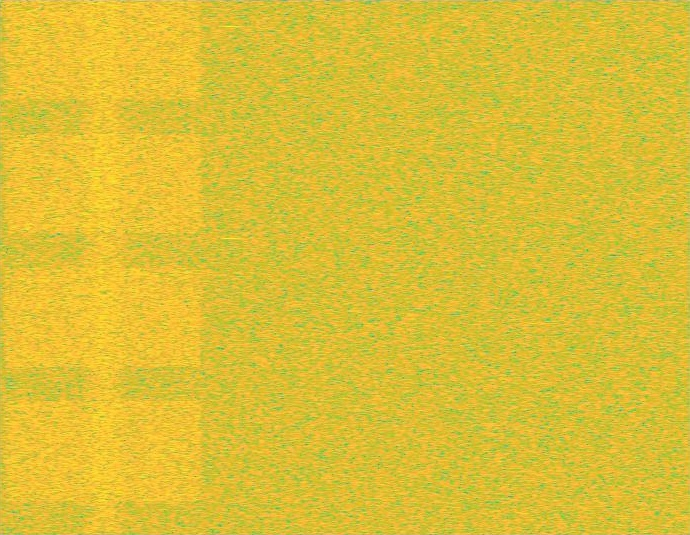5G: (0, 0, 207, 534)
DSSS: (80, 0, 127, 534)
Radar: (224, 0, 238, 534)
